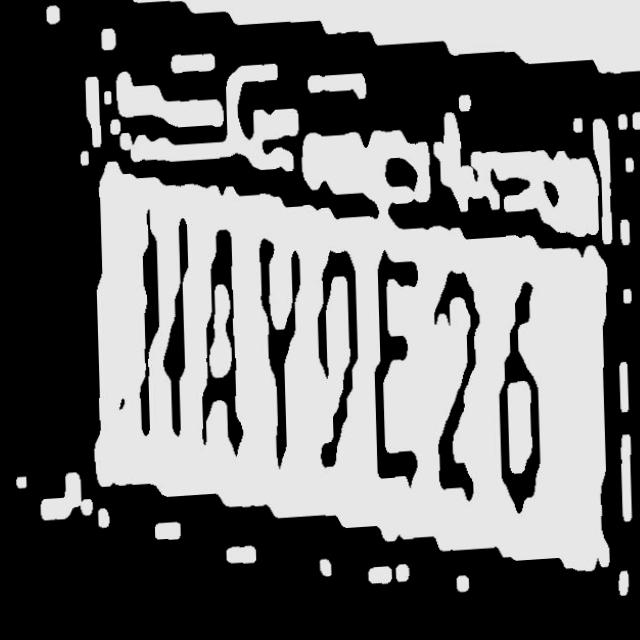2: (425, 270, 487, 514)
6: (489, 283, 548, 528)
9: (307, 246, 363, 481)
a: (189, 221, 247, 465)
e: (365, 252, 422, 496)
n: (130, 204, 194, 448)
y: (251, 236, 307, 475)
